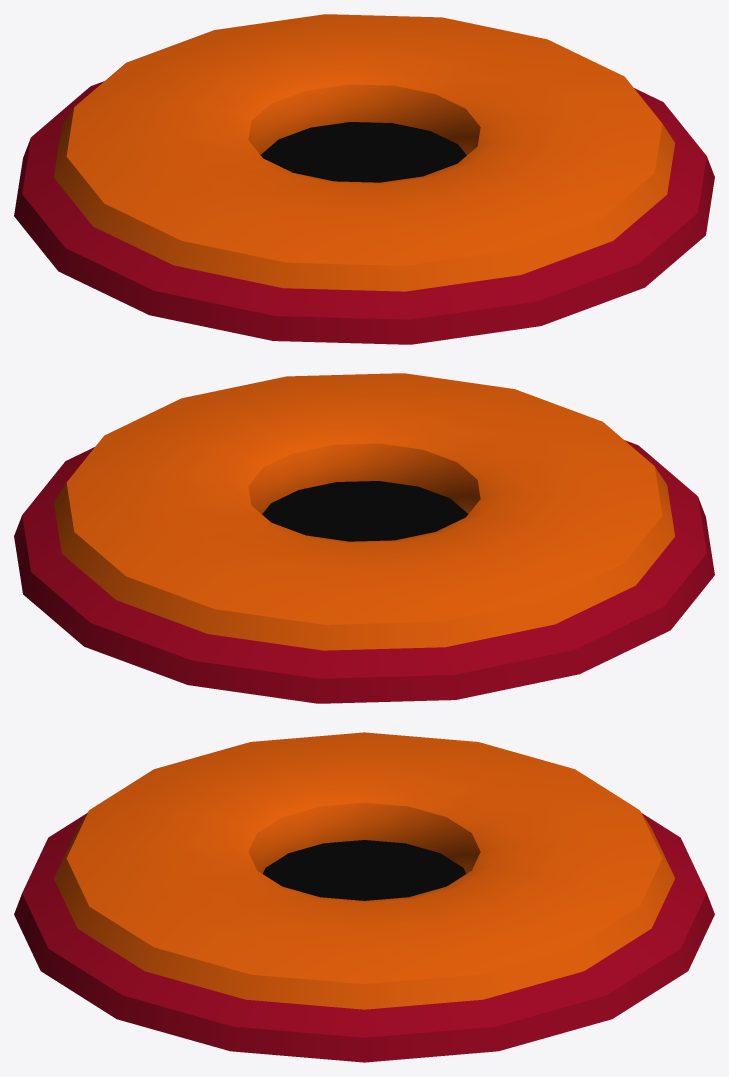
File: FireThrower.fbx
3 renders of one model, top to bottom at view 1: azimuth 30°, elevation 25°; view 2: azimuth 150°, elevation 25°; view 3: azimuth 270°, elevation 25°, orthographic.
Parts seen in each view (by area): view 1: Cylinder; view 2: Cylinder; view 3: Cylinder.
Part boxes in pixels (<box>): Cylinder: <box>14,14,714,344</box>; Cylinder: <box>14,373,714,703</box>; Cylinder: <box>14,732,714,1062</box>.
Size of the model in its own units: 242 by 26.47 by 242.
